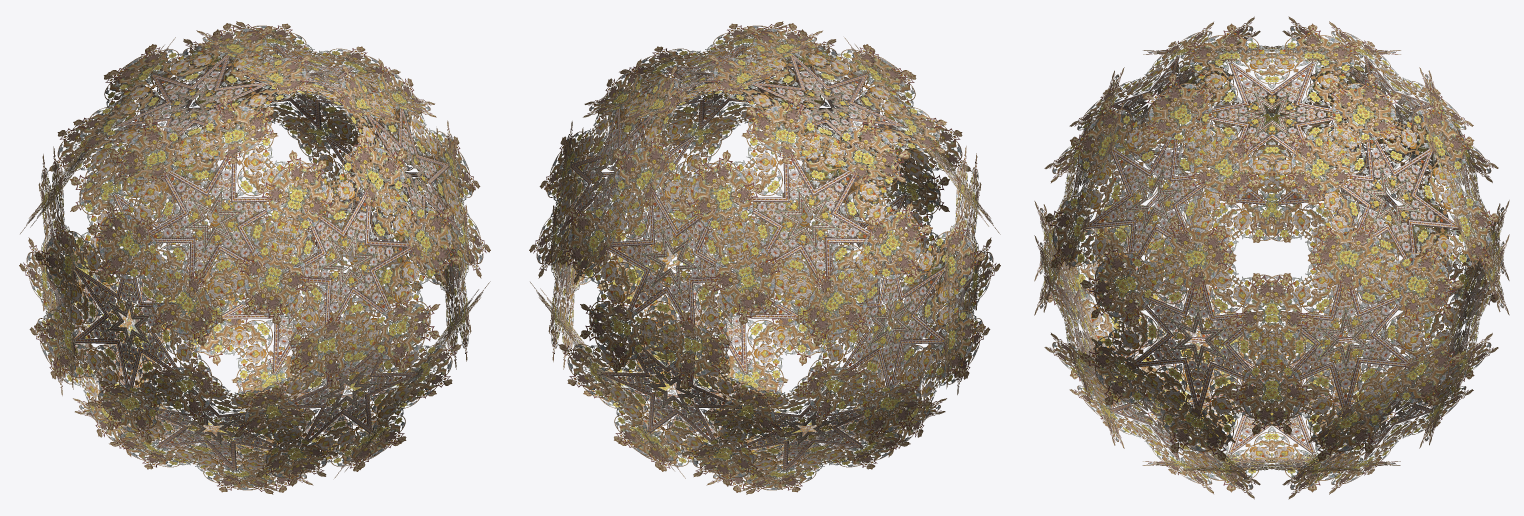
Rendered from SmallIcosicosidodecahedron13.gltf.
3 renders of one model, left to right at view 1: azimuth 30°, elevation 25°; view 2: azimuth 150°, elevation 25°; view 3: azimuth 270°, elevation 25°, orthographic. The views are drawn at different scales.
Visible parts, largest first — view 1: SmallIcosicosidodecahedron; view 2: SmallIcosicosidodecahedron; view 3: SmallIcosicosidodecahedron.
Boxes of the visible parts, x1,y1,x2,y2 form: SmallIcosicosidodecahedron: [19, 21, 490, 494]; SmallIcosicosidodecahedron: [529, 21, 1000, 494]; SmallIcosicosidodecahedron: [1034, 16, 1509, 499].
Size of the model in its own units: 3.24 by 3.24 by 3.24.
1 material, 1 textured.
